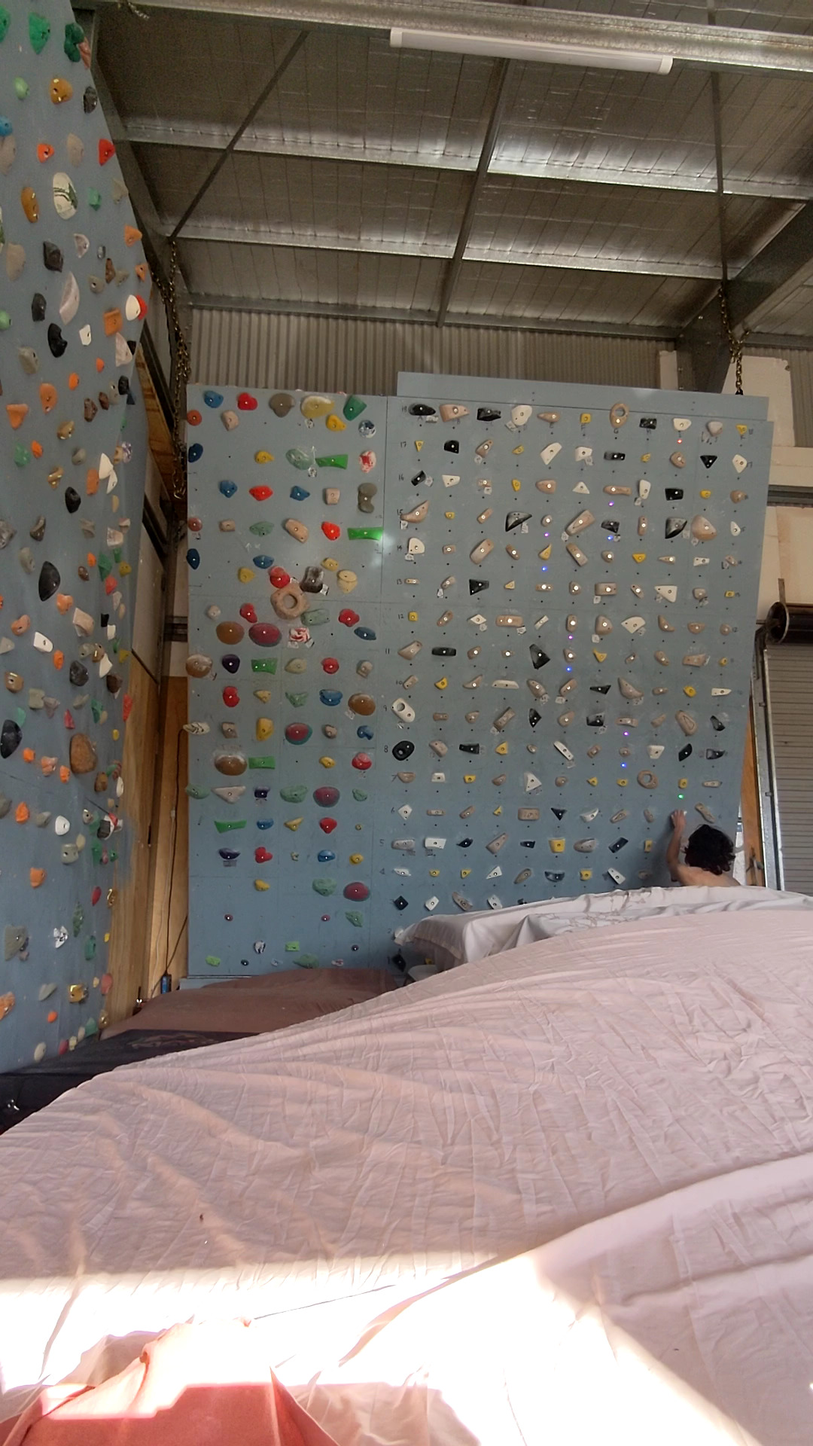hold: (271, 585, 308, 619), (54, 172, 79, 220), (71, 734, 96, 774), (299, 395, 336, 421), (59, 274, 79, 322), (28, 11, 51, 52), (565, 508, 596, 537), (248, 621, 282, 647), (40, 562, 62, 602), (0, 720, 23, 757), (3, 926, 28, 960), (65, 23, 85, 62), (20, 186, 40, 223), (215, 621, 246, 644), (6, 243, 25, 280), (215, 754, 245, 777), (186, 652, 212, 678), (299, 565, 323, 593), (401, 500, 429, 524), (17, 347, 40, 376), (113, 333, 133, 366), (268, 393, 294, 418), (342, 395, 367, 421), (469, 539, 494, 565), (0, 136, 17, 174), (42, 243, 65, 271), (347, 692, 375, 715), (285, 723, 313, 746), (692, 517, 717, 542), (48, 325, 68, 356), (51, 76, 73, 104), (313, 785, 339, 808), (359, 483, 378, 514), (68, 133, 85, 167), (212, 785, 246, 802), (392, 698, 415, 723), (282, 520, 308, 542), (663, 517, 689, 539), (618, 678, 644, 700), (675, 709, 697, 735), (73, 607, 93, 635), (104, 308, 124, 336), (285, 449, 313, 469), (6, 404, 28, 429), (336, 570, 359, 593), (438, 404, 469, 421), (344, 881, 370, 901), (268, 565, 291, 587), (511, 404, 534, 426), (539, 443, 562, 465), (610, 404, 630, 429), (398, 641, 423, 661), (494, 706, 514, 731), (505, 511, 531, 530), (0, 991, 17, 1020), (279, 785, 308, 802), (694, 802, 717, 823), (31, 294, 48, 322), (65, 486, 82, 514), (302, 610, 330, 627), (531, 644, 550, 669), (486, 833, 508, 854), (51, 926, 71, 949), (567, 542, 587, 565), (392, 740, 415, 760), (553, 740, 573, 763), (11, 613, 31, 635), (528, 678, 548, 700), (452, 892, 474, 912), (316, 455, 347, 469), (40, 384, 56, 411), (71, 661, 88, 686), (17, 548, 34, 573), (113, 178, 130, 203), (73, 232, 90, 257), (82, 88, 99, 113), (621, 616, 646, 633), (497, 613, 525, 628), (251, 658, 277, 674), (99, 138, 116, 162), (347, 528, 384, 539), (215, 819, 246, 832), (68, 983, 88, 1003), (322, 486, 342, 506), (339, 607, 359, 627), (353, 751, 373, 771), (474, 438, 494, 458), (655, 585, 677, 603), (71, 907, 85, 935), (14, 443, 31, 466), (48, 466, 65, 489), (251, 520, 274, 537), (288, 627, 311, 644), (285, 658, 308, 675), (319, 689, 342, 706), (313, 878, 336, 895), (683, 652, 709, 667), (0, 6, 11, 41), (34, 633, 54, 652), (220, 410, 240, 429), (220, 655, 240, 674), (573, 446, 593, 465), (406, 537, 426, 556), (183, 720, 210, 734), (325, 415, 347, 432), (257, 717, 274, 739), (359, 449, 375, 472), (0, 520, 14, 546), (79, 40, 93, 66), (126, 295, 140, 321), (135, 293, 148, 321), (248, 486, 274, 500), (409, 404, 435, 418), (104, 528, 124, 546), (203, 390, 223, 408), (638, 771, 658, 789), (607, 867, 627, 885), (124, 223, 141, 244), (525, 771, 542, 792), (99, 554, 113, 579), (294, 955, 319, 969), (477, 407, 502, 421), (573, 839, 598, 853), (6, 672, 23, 692), (56, 593, 73, 613), (28, 689, 45, 709), (54, 816, 71, 836), (28, 867, 45, 887), (56, 421, 76, 438), (37, 141, 54, 161), (237, 393, 257, 410), (217, 480, 237, 497), (322, 522, 342, 539), (223, 686, 240, 706), (319, 816, 339, 833), (254, 847, 274, 864), (344, 909, 364, 926), (536, 477, 556, 494), (429, 740, 449, 757), (514, 867, 534, 884), (536, 412, 562, 425), (99, 455, 113, 479), (638, 480, 652, 504), (42, 698, 59, 717), (62, 844, 79, 863), (79, 520, 96, 539), (71, 446, 88, 465), (186, 443, 203, 462), (240, 604, 257, 623), (469, 579, 488, 596), (469, 613, 488, 630), (14, 802, 28, 825), (14, 76, 28, 99), (285, 692, 308, 706), (186, 785, 209, 799), (392, 839, 415, 853), (40, 757, 56, 777), (88, 274, 104, 294), (359, 418, 375, 438), (248, 757, 277, 768), (90, 842, 104, 864), (186, 548, 200, 570), (604, 486, 632, 497), (596, 582, 618, 596), (491, 678, 519, 689), (104, 675, 121, 693), (731, 455, 748, 473), (596, 616, 613, 634), (254, 554, 274, 569), (217, 847, 240, 860), (93, 773, 107, 794), (99, 655, 113, 676), (31, 517, 45, 538), (0, 116, 14, 137), (356, 661, 373, 678), (322, 658, 339, 675), (392, 895, 409, 912), (706, 421, 723, 438), (669, 452, 686, 469), (658, 616, 675, 633), (559, 678, 576, 695), (587, 712, 604, 729), (646, 743, 663, 760), (610, 836, 627, 853), (423, 895, 440, 912), (121, 695, 133, 719), (104, 257, 116, 281), (353, 627, 375, 640), (356, 726, 375, 741), (34, 1042, 48, 1062), (79, 325, 93, 345), (88, 189, 102, 209), (291, 486, 311, 500), (254, 449, 274, 463), (672, 418, 692, 432), (565, 613, 579, 633), (463, 675, 483, 689), (519, 808, 539, 822), (545, 870, 565, 884), (392, 952, 406, 972), (85, 935, 96, 960), (92, 698, 103, 723), (34, 811, 51, 827), (40, 983, 56, 1000), (438, 610, 454, 627), (136, 263, 150, 282), (107, 760, 121, 779), (107, 887, 119, 909), (121, 441, 133, 463), (88, 469, 99, 493), (89, 809, 101, 831), (1, 635, 14, 655), (443, 474, 460, 489), (601, 520, 618, 535), (677, 743, 692, 760), (398, 804, 413, 821), (615, 715, 638, 726), (99, 976, 113, 994), (1, 794, 11, 819), (104, 815, 114, 840), (432, 647, 457, 657), (91, 885, 102, 907), (425, 838, 447, 849), (610, 808, 630, 820), (73, 695, 90, 709), (76, 565, 90, 582), (186, 517, 203, 531), (237, 568, 254, 582), (322, 556, 339, 570), (254, 689, 271, 703), (220, 723, 237, 737), (285, 816, 302, 830), (700, 455, 717, 469), (573, 480, 590, 494), (655, 650, 669, 667), (401, 675, 418, 689), (559, 712, 576, 726), (97, 820, 110, 838), (85, 398, 96, 419), (706, 748, 725, 760), (116, 268, 130, 284), (186, 410, 200, 426), (477, 477, 491, 493), (711, 715, 725, 731), (582, 808, 598, 822), (322, 726, 339, 739), (692, 587, 709, 600), (689, 621, 706, 634), (316, 850, 336, 861), (638, 418, 658, 429), (663, 489, 683, 500), (395, 771, 415, 782), (460, 743, 480, 754), (206, 604, 220, 619), (550, 839, 565, 853), (54, 650, 65, 669), (14, 707, 25, 726), (113, 443, 124, 462), (59, 765, 71, 782), (104, 576, 116, 593), (443, 441, 460, 453), (731, 489, 748, 501), (590, 683, 610, 693), (0, 311, 11, 329), (119, 376, 130, 394), (638, 517, 649, 535), (79, 644, 93, 658), (353, 788, 367, 802), (412, 472, 426, 486), (477, 508, 491, 522), (505, 545, 519, 559), (630, 585, 644, 599), (440, 576, 454, 590), (534, 616, 548, 630), (593, 650, 607, 664), (652, 715, 666, 729), (460, 805, 474, 819), (488, 895, 502, 909), (119, 517, 131, 533), (110, 381, 119, 402), (82, 808, 93, 825), (31, 441, 42, 458), (68, 373, 79, 390), (99, 393, 110, 410), (220, 520, 237, 531), (319, 757, 336, 768), (257, 819, 274, 830), (528, 709, 539, 726), (491, 774, 508, 785), (604, 452, 627, 460), (254, 878, 268, 891), (435, 678, 449, 691), (567, 582, 582, 594), (85, 1020, 96, 1036), (285, 940, 299, 952), (683, 686, 697, 698), (711, 687, 732, 695), (23, 748, 34, 763), (93, 644, 104, 659), (254, 940, 265, 955), (731, 522, 742, 537), (550, 808, 565, 819), (65, 709, 73, 729), (486, 867, 502, 877), (82, 808, 93, 822), (119, 650, 130, 664), (96, 246, 107, 260), (119, 562, 130, 576), (254, 788, 268, 799), (350, 853, 364, 864), (206, 955, 220, 966), (542, 514, 553, 528), (724, 555, 738, 566), (466, 647, 480, 658), (466, 712, 480, 723), (432, 771, 446, 782), (494, 743, 508, 754), (587, 746, 601, 757), (644, 808, 655, 822), (638, 870, 652, 881), (579, 870, 593, 881), (76, 833, 85, 850), (107, 624, 116, 641), (658, 556, 675, 565), (703, 779, 720, 788), (392, 867, 409, 876), (116, 777, 124, 796), (694, 556, 709, 566), (99, 1010, 107, 1028), (101, 612, 110, 628), (127, 339, 138, 352), (539, 545, 550, 558), (644, 839, 655, 852), (426, 809, 446, 816), (536, 582, 553, 590), (432, 712, 449, 720), (601, 551, 613, 562), (505, 579, 517, 590), (406, 610, 418, 621), (618, 746, 630, 757), (423, 955, 435, 966), (113, 590, 121, 606), (59, 1039, 68, 1053), (652, 686, 666, 695), (269, 957, 283, 966), (48, 1011, 59, 1022), (737, 424, 748, 435), (700, 489, 711, 500), (720, 624, 731, 635), (68, 1036, 76, 1051), (677, 777, 689, 787), (114, 819, 123, 832), (102, 850, 110, 864), (88, 554, 96, 568), (96, 359, 104, 373), (113, 548, 121, 562), (632, 554, 646, 562), (525, 746, 539, 754), (463, 774, 477, 782), (457, 839, 471, 847), (108, 813, 118, 824), (460, 867, 471, 877), (76, 1027, 85, 1039), (394, 926, 403, 938), (113, 640, 120, 655), (99, 709, 107, 722), (119, 604, 127, 617), (110, 850, 119, 861), (514, 446, 525, 455), (443, 545, 454, 554), (502, 650, 514, 658), (725, 590, 735, 599), (20, 949, 28, 960), (415, 441, 423, 452), (565, 650, 573, 661), (587, 777, 598, 785), (556, 777, 567, 785), (429, 870, 440, 878), (404, 579, 418, 585), (127, 393, 136, 402), (350, 943, 359, 952), (618, 779, 627, 788), (582, 412, 590, 422), (641, 455, 651, 463), (511, 480, 519, 490), (494, 805, 502, 815), (519, 842, 535, 847), (113, 497, 119, 510), (121, 415, 127, 428), (446, 511, 454, 520), (93, 977, 99, 988), (104, 932, 110, 943), (113, 729, 119, 740), (333, 960, 344, 966), (291, 853, 299, 861), (107, 798, 114, 807), (0, 594, 4, 609), (517, 898, 527, 904), (720, 658, 728, 665), (627, 655, 635, 662), (322, 915, 330, 921), (240, 960, 248, 966), (226, 915, 233, 921), (356, 825, 361, 830)
